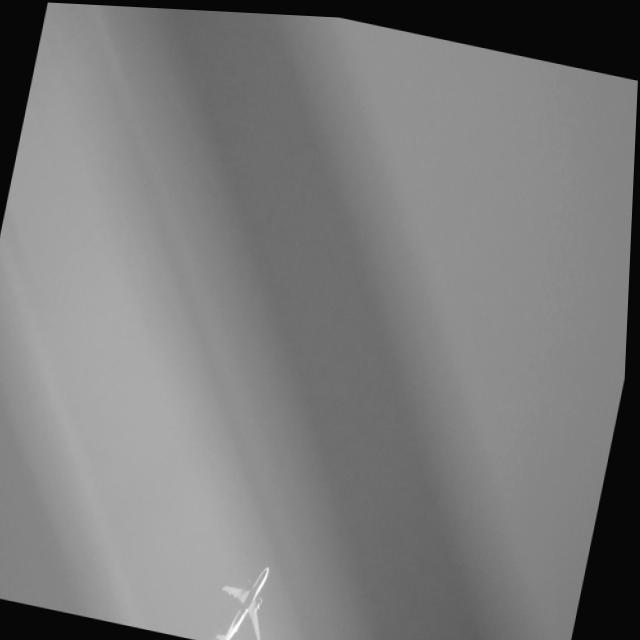aeroplane: (212, 541, 286, 640)
